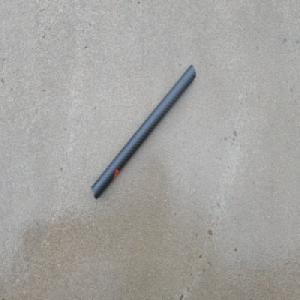LuggagePart: (90, 63, 196, 200)
